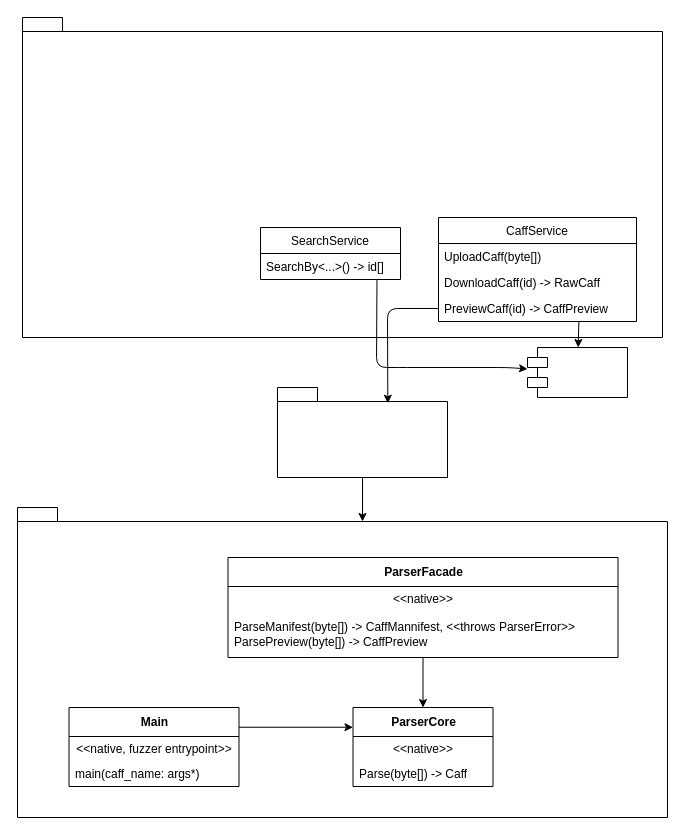
This 685x835 diagram has some shape labels left out. The shapes that lost their labels are listed below. From the top down, each one's centre as x and y in pixels, then its label:
point 577,372: SqlDb
point 362,432: CaffParserWrapper
